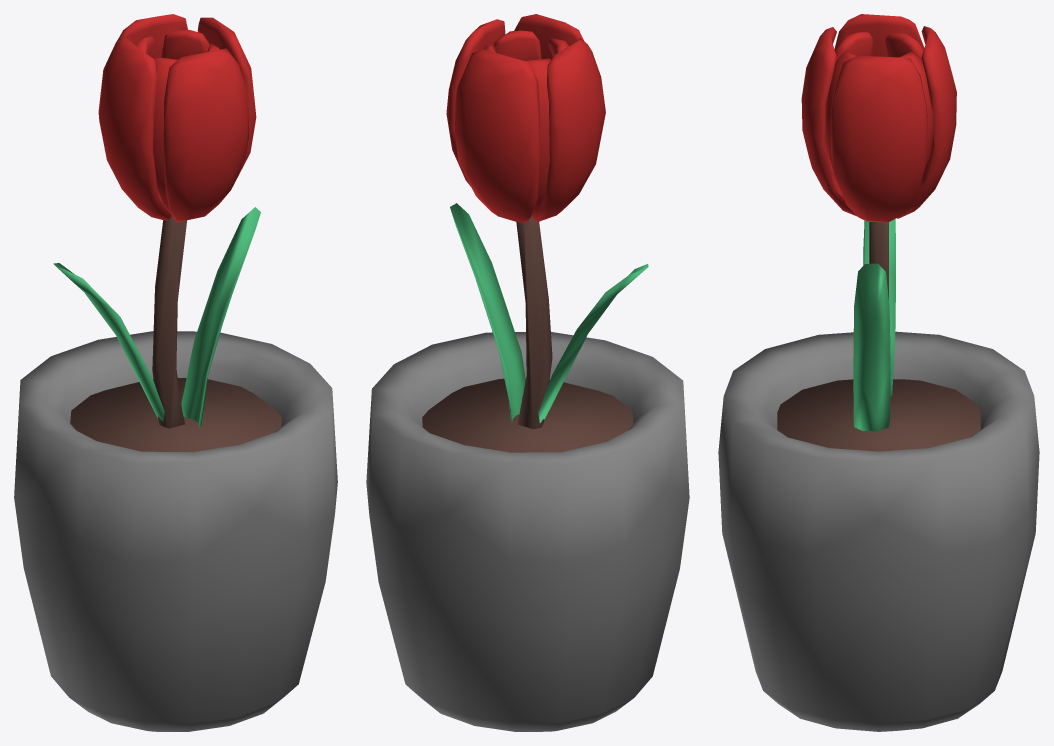
The model's file is Vaso2.fbx.
The picture shows the model from 3 angles, left to right: view 1: azimuth 30°, elevation 25°; view 2: azimuth 150°, elevation 25°; view 3: azimuth 270°, elevation 25°; orthographic projection.
Visible parts, largest first — view 1: VasoTulipa; view 2: VasoTulipa; view 3: VasoTulipa.
Boxes of the visible parts, x1=… form: VasoTulipa: x1=14, y1=14, x2=337, y2=731; VasoTulipa: x1=366, y1=14, x2=689, y2=731; VasoTulipa: x1=718, y1=14, x2=1039, y2=731.
Size of the model in its own units: 51.95 by 119 by 51.95.
1 material, 1 textured.
